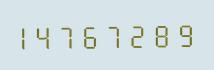eight: (149, 19, 170, 48)
four: (39, 21, 60, 50)
nine: (171, 18, 192, 48)
one: (17, 21, 38, 51)
seven: (61, 20, 82, 50), (105, 20, 126, 49)
six: (83, 20, 104, 50)
two: (127, 19, 148, 49)
